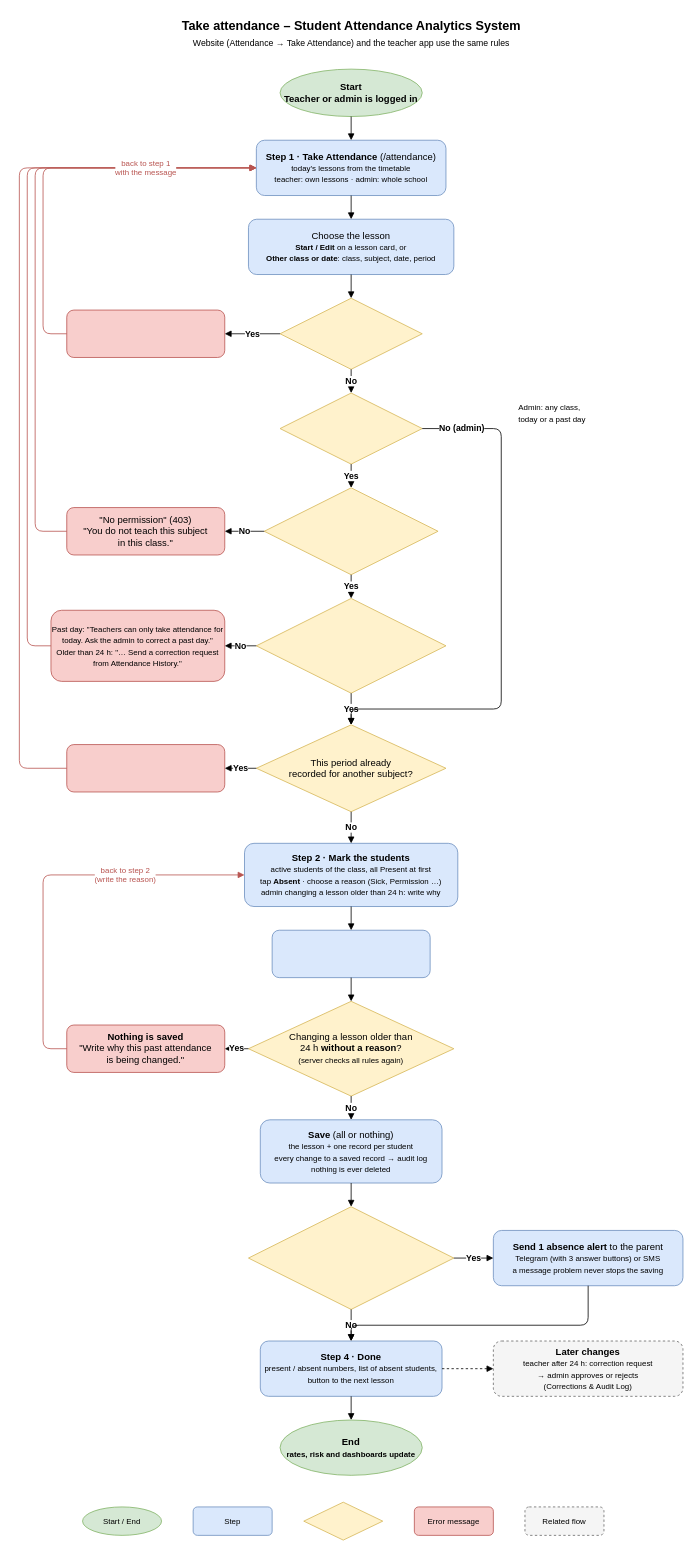
This 697x1554 diagram has some shape labels left out. Here are the shapes that lost their labels. From the top down, the centre of each, then its label:
[145,333]: "Attendance cannot be taken for a future date."
[350,333]: Date in the future?
[350,428]: User is a teacher?
[350,531]: Teaches this class and subject? (Teaching Assignments)
[351,645]: New lesson for today , or saved less than 24 h ago?
[145,768]: "Period N on this day is already recorded for [subject]."
[350,953]: Step 3 · Review pop-up present / absent count → Submit
[351,1257]: A student absent the 3rd school day in a row, no alert yet? (today only)
[343,1520]: Decision
